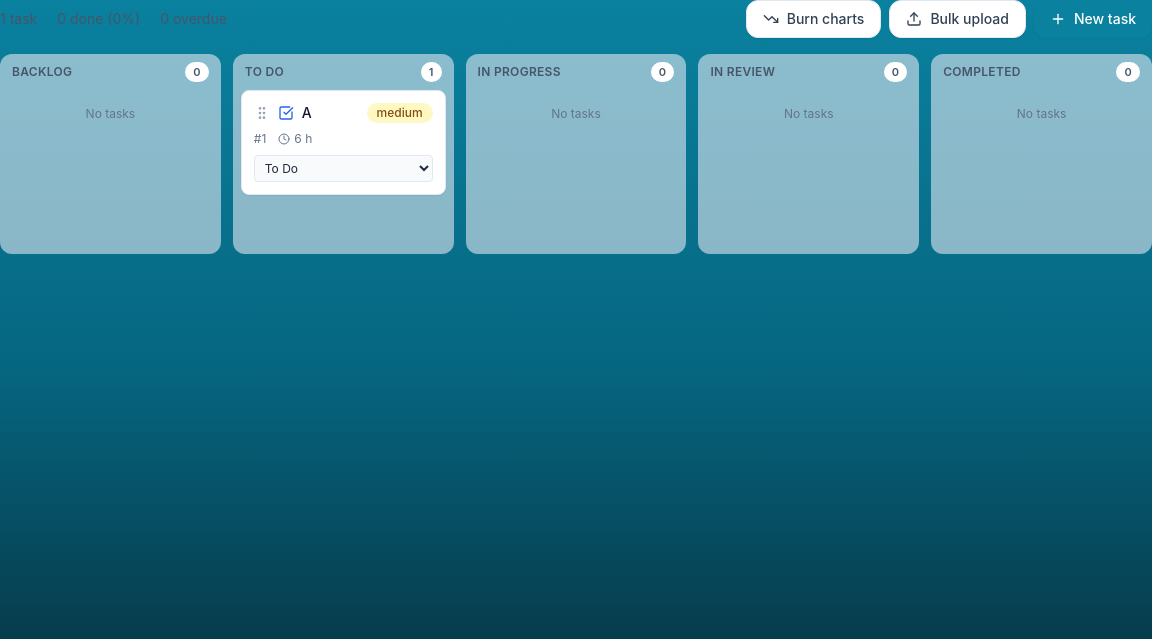
Test: burn charts › shows estimates on cards and loads burndown and burnup on demand
Expected: the text "6 h" is shown, [278, 131, 312, 147]
Click the button "Burn charts" at (814, 19), box [746, 0, 882, 38]
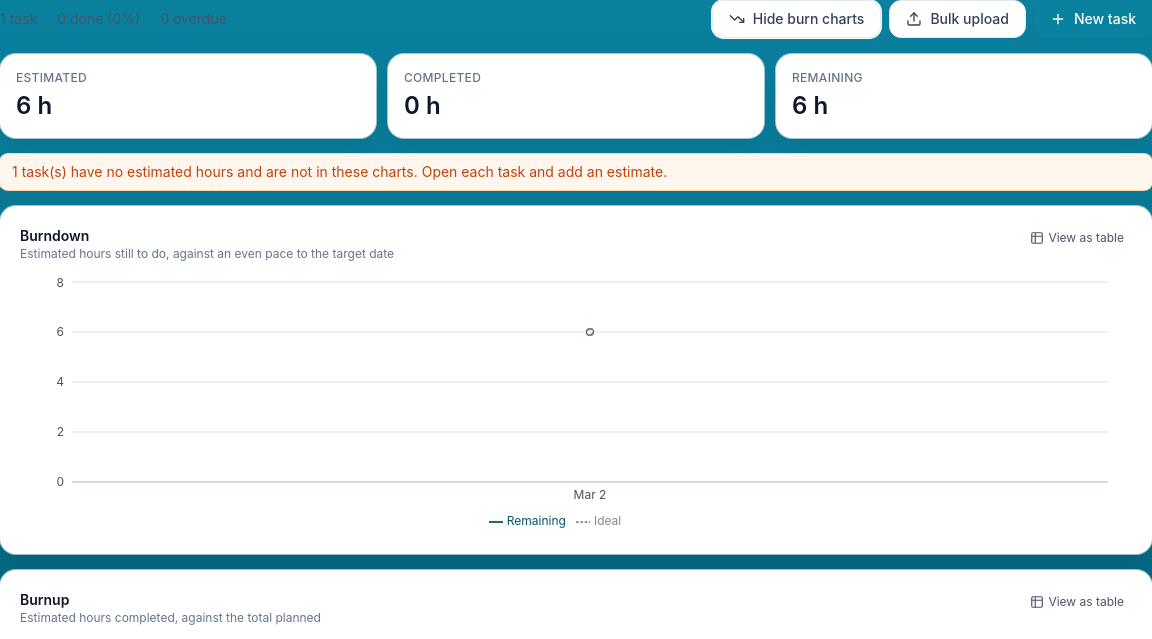
Now the element "Burndown" is shown, box [0, 206, 1151, 554]
Now the text "1 task(s) have no estimated hours" is shown, box [0, 154, 1151, 190]
